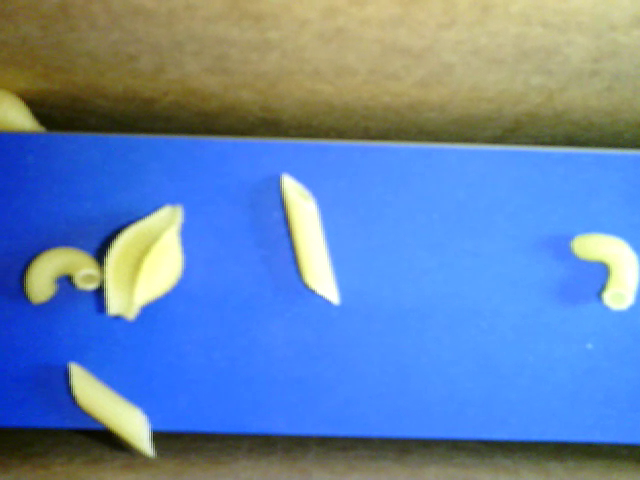elbow: (571, 229, 639, 310), (24, 246, 102, 307)
penne: (66, 359, 157, 460), (279, 171, 341, 307)
shell: (102, 200, 184, 319), (1, 86, 49, 133)
